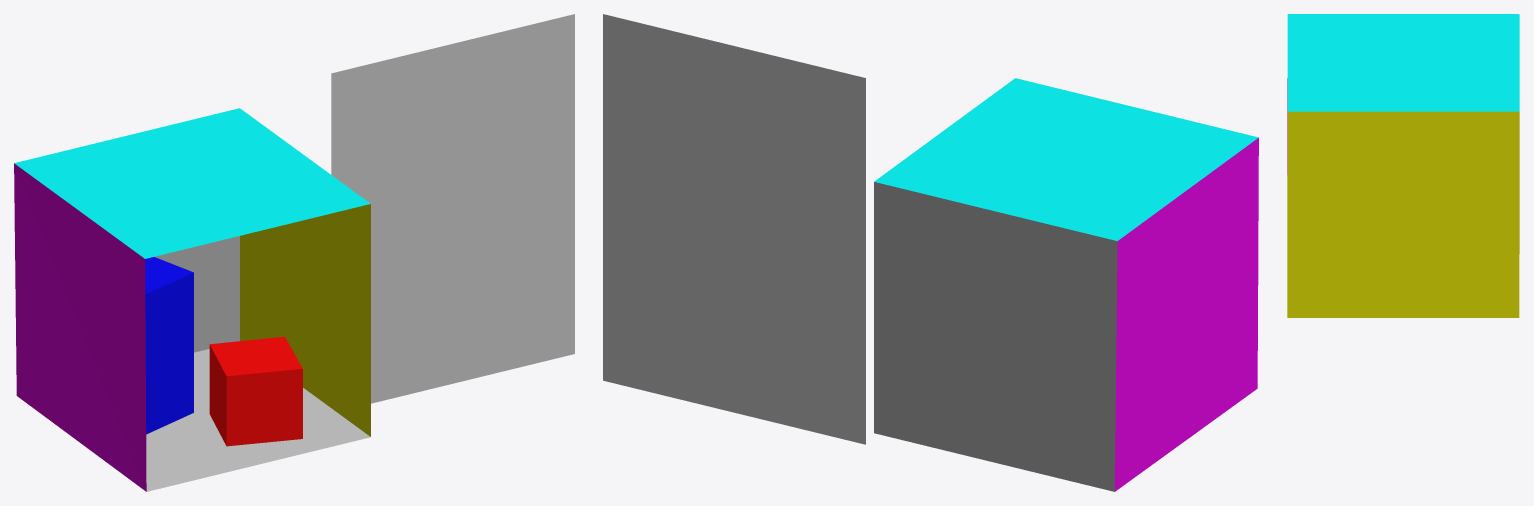
The model's file is Cornell-box-upd.obj.
The picture shows the model from 3 angles, left to right: view 1: azimuth 30°, elevation 25°; view 2: azimuth 150°, elevation 25°; view 3: azimuth 270°, elevation 25°; orthographic projection. The views are drawn at different scales.
Parts seen in each view (by area): view 1: floorfloor, left_wall, ceiling, right_wall, floor, short_box, tall_box, back_wall; view 2: floorfloor, back_wall, left_wall, ceiling; view 3: right_wall, ceiling.
Part boxes in pixels (bbox=[...]): floorfloor: bbox=[331, 14, 574, 403]; left_wall: bbox=[14, 163, 146, 491]; ceiling: bbox=[14, 108, 370, 258]; right_wall: bbox=[240, 204, 370, 436]; floor: bbox=[146, 349, 370, 491]; short_box: bbox=[209, 336, 302, 446]; tall_box: bbox=[145, 257, 193, 434]; back_wall: bbox=[154, 236, 239, 352]; floorfloor: bbox=[603, 14, 865, 444]; back_wall: bbox=[874, 182, 1117, 491]; left_wall: bbox=[1114, 137, 1258, 491]; ceiling: bbox=[874, 78, 1258, 240]; right_wall: bbox=[1287, 111, 1519, 317]; ceiling: bbox=[1287, 14, 1519, 111].
Size of the model in its own units: 12.78 by 8 by 5.6.
